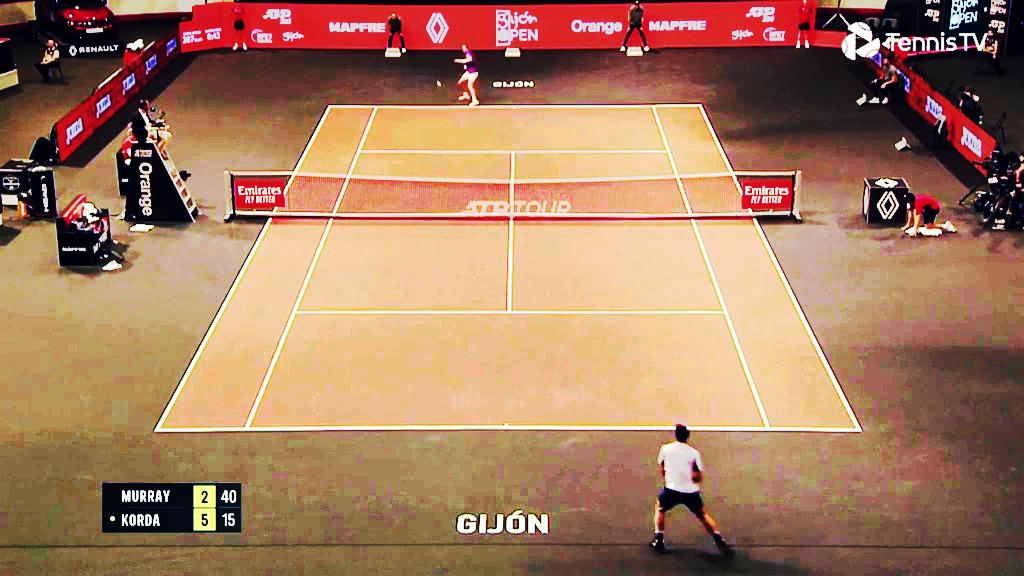tennis-court: (154, 105, 862, 431)
